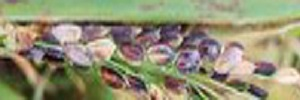RiceSheathBrownRot: (1, 18, 291, 100)
